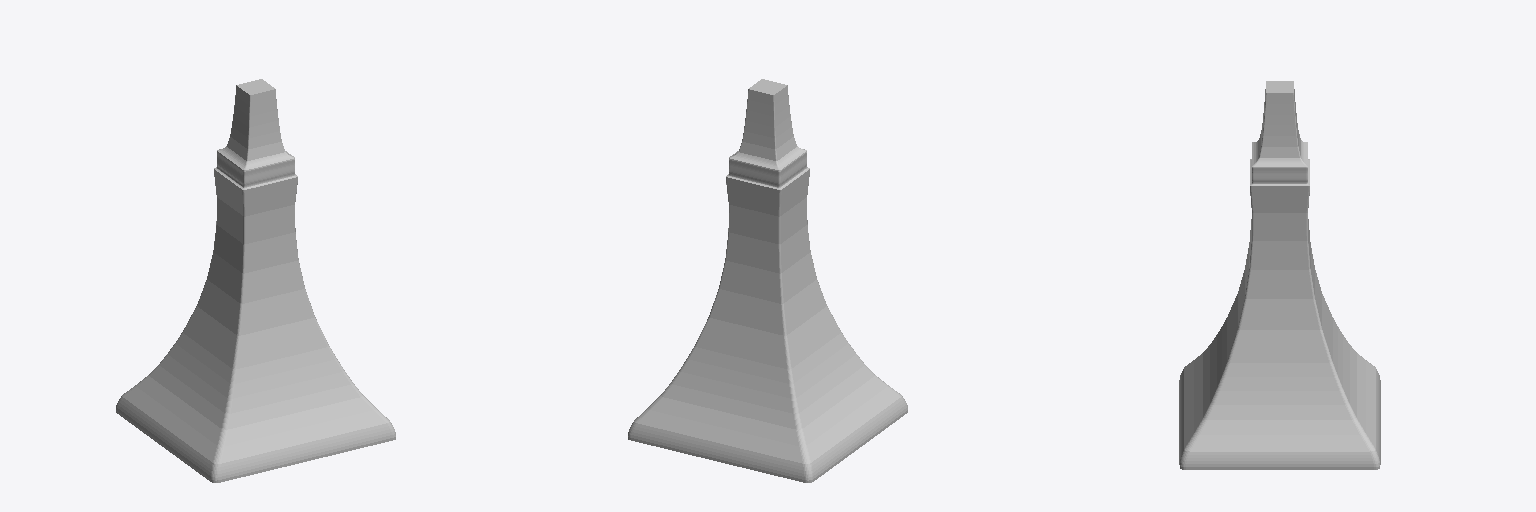
3 views of the same model, side by side, from view 1: azimuth 30°, elevation 25°; view 2: azimuth 150°, elevation 25°; view 3: azimuth 270°, elevation 25° (orthographic).
Parts seen in each view (by area): view 1: Loft05; view 2: Loft05; view 3: Loft05.
Boxes of the visible parts, <box> form: Loft05: <box>116,79,395,482</box>; Loft05: <box>628,79,907,482</box>; Loft05: <box>1179,81,1380,469</box>.
Size of the model in its own units: 60.32 by 105 by 56.77.